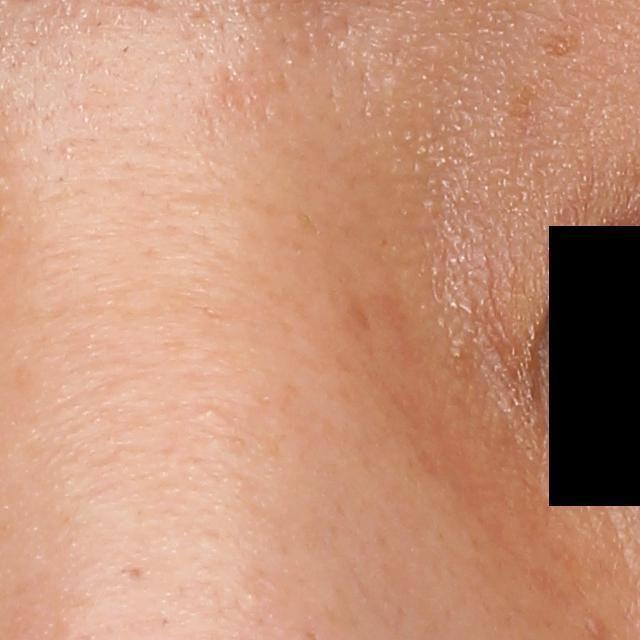melasma: (540, 29, 581, 57)
